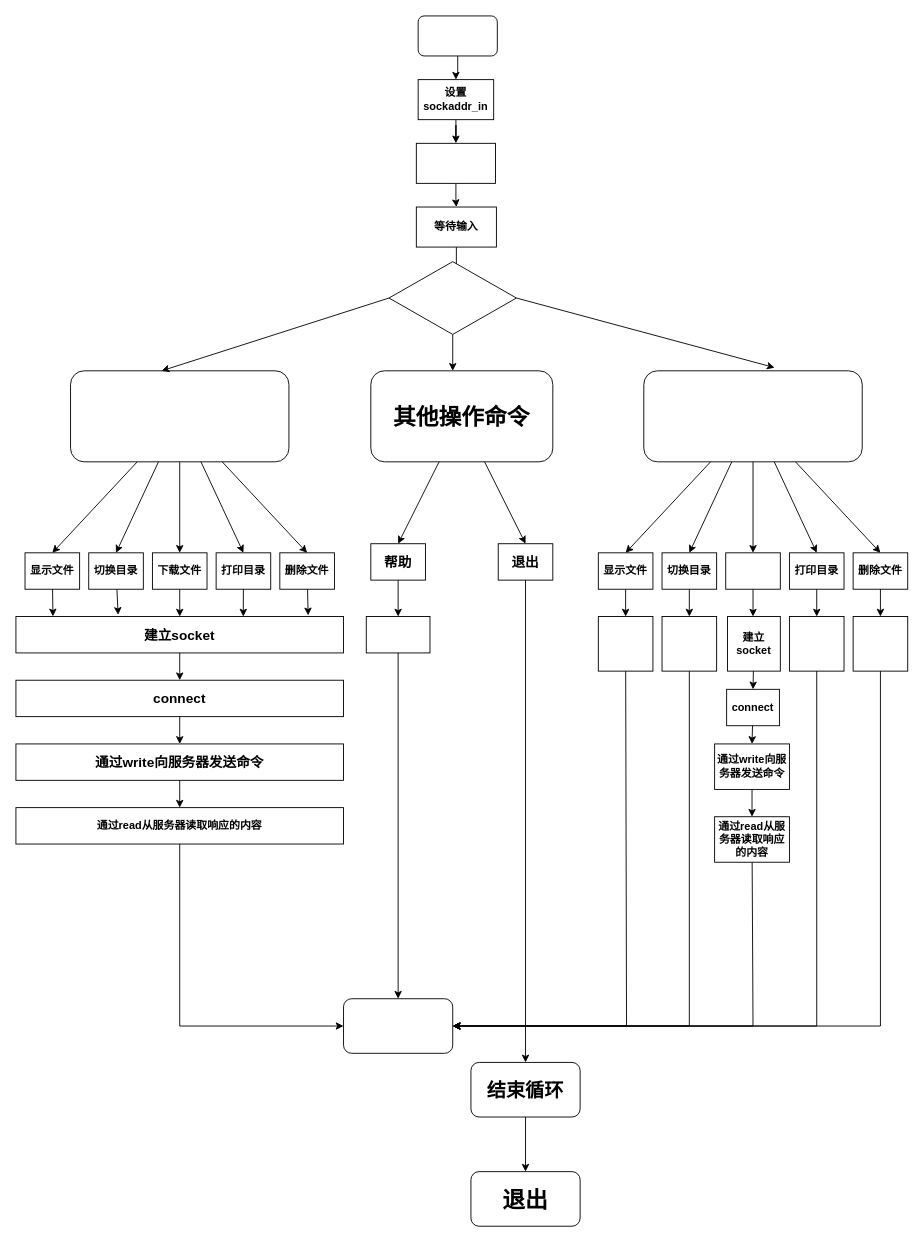
The diagram is 924 pixels wide and 1242 high, and some of its shapes have lost their labels. Here are the shapes that lost their labels. From the top down, the centre of each, then its label:
At (x=457, y=35): "开始".
At (x=455, y=162): "进入循环".
At (x=452, y=297): "判断命令".
At (x=179, y=416): "服务端操作命令".
At (x=752, y=416): "客户端操作命令".
At (x=752, y=570): "上传文件".
At (x=397, y=634): "调用commd_help函数".
At (x=625, y=643): "调用system函数执行ls命令".
At (x=689, y=643): "调用chdir函数".
At (x=816, y=643): "调用getcwd函数".
At (x=880, y=643): "调用remove函数".
At (x=398, y=1025): "继续循环".
